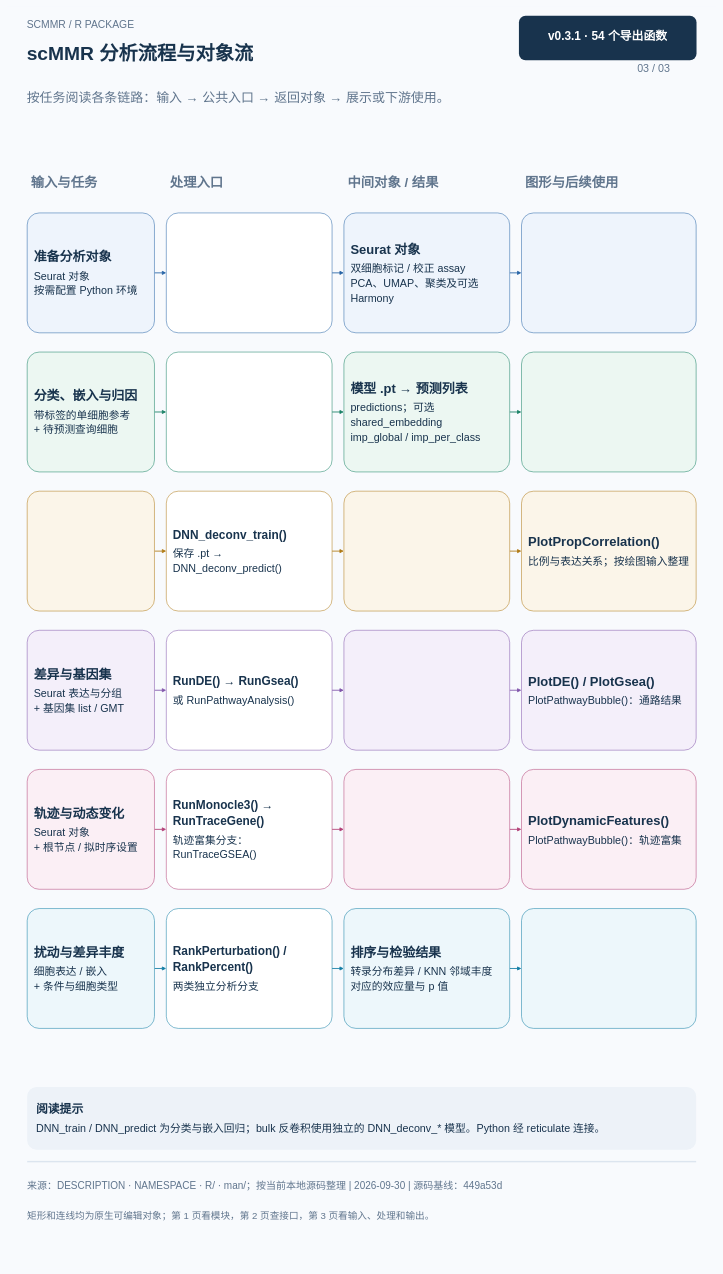
Image size: 723x1274. Some labels were removed from this diagram. Here are the shapes that lost their labels. From the top down, the centre of each, then its label:
At (249,272): "ComputeDoublets() / ComputeAmbientRNA() 随后按需运行 StandardPipeline()".
At (608,272): "DimPlot2() / FeaturePlot2() ExpressionStatPlot2()：表达分布".
At (249,412): "DNN_train() → DNN_predict() 训练保存 .pt；预测通过 model_path 读取".
At (608,412): "归因 / 投影 / 嵌入评估 提取对应字段用于 PlotImportance() PlotMAP() 或 EvaluateEmbedding()".
At (91,551): "bulk 反卷积 单细胞参考 + bulk 表达矩阵".
At (426,551): "细胞比例结果 默认返回 sample_id + 各细胞比例 adaptive 模式返回带 proportions 的列表".
At (426,690): "差异与通路结果 DE 表、GSEA 列表 或 Celltype × Pathway 标准表".
At (426,829): "Seurat 元数据 + 结果表 Monocle3 拟时序 基因动态统计与通路结果".
At (608,968): "PlotPerturbation() / PlotPercent() 查看扰动强度或差异丰度".
